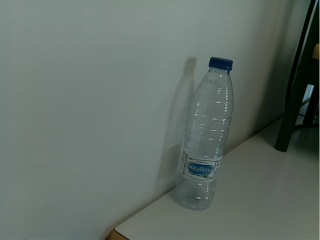botella plastico: (170, 54, 238, 214)
